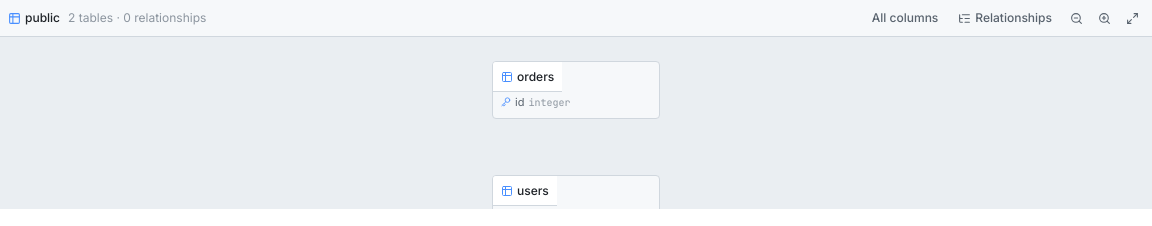
it: ErDiagramView › renders the nodes and a note when the schema has no relationships
Click the button "Relationships".
click(1005, 18)  # box [950,6,1060,30]
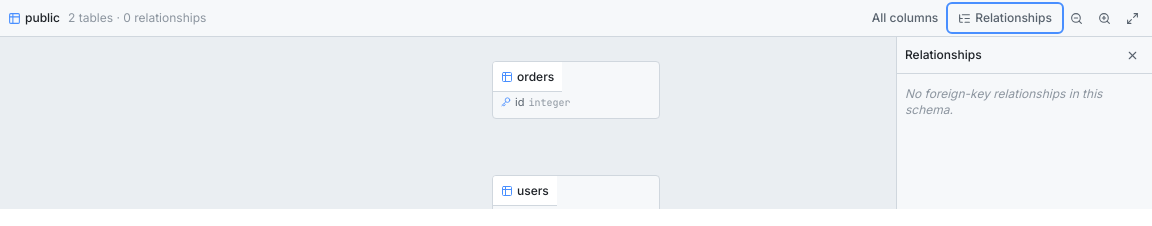
Now the text "No foreign-key relationships in this schema." is shown, box [905,86,1102,117]
